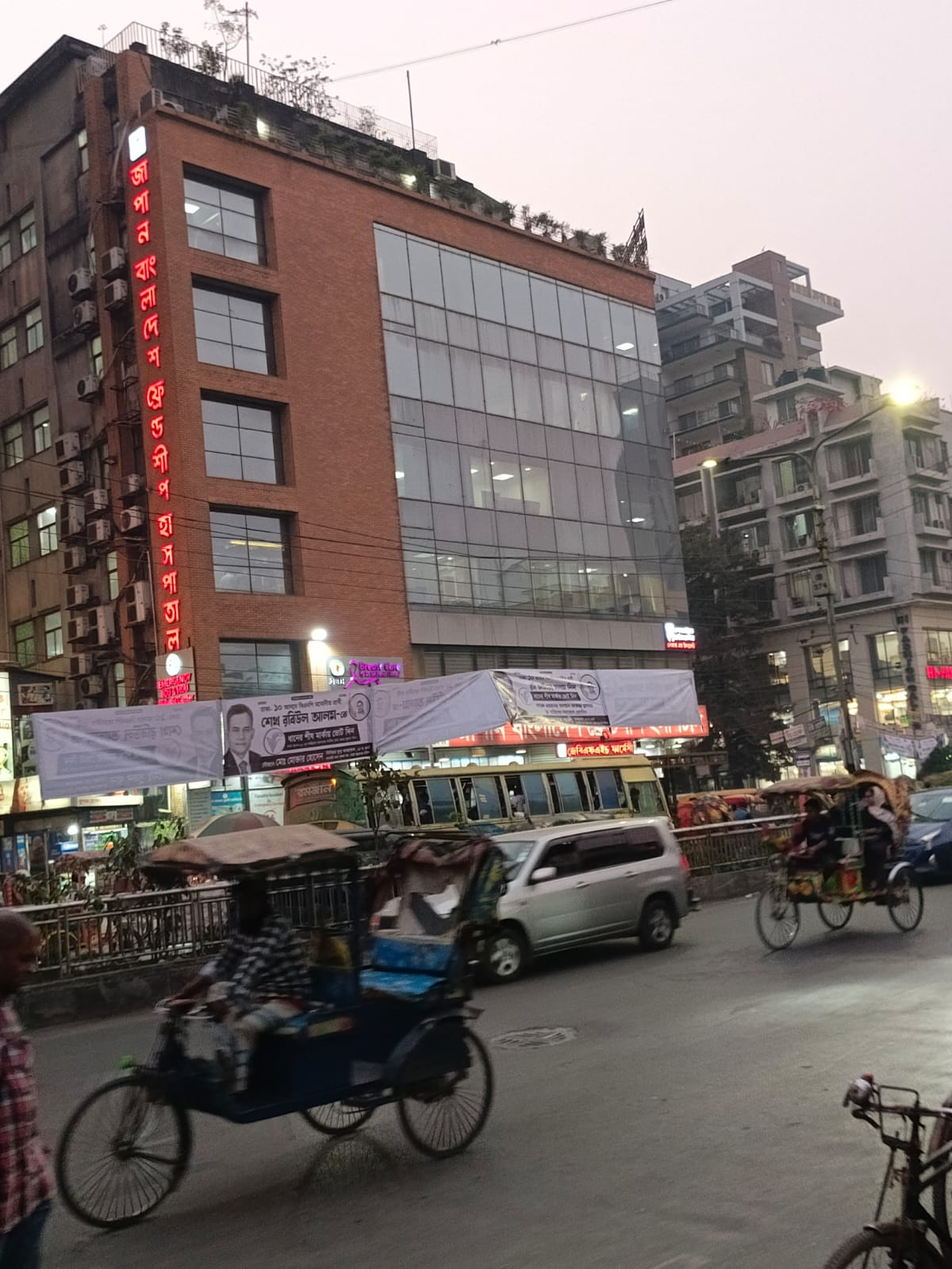Bus: (275, 751, 700, 853)
Leguna: (666, 785, 773, 811)
auto-ricksaw: (52, 807, 556, 1223), (820, 1034, 952, 1269), (756, 764, 912, 942), (679, 796, 754, 826)
private car: (502, 794, 704, 986), (912, 751, 952, 866)
